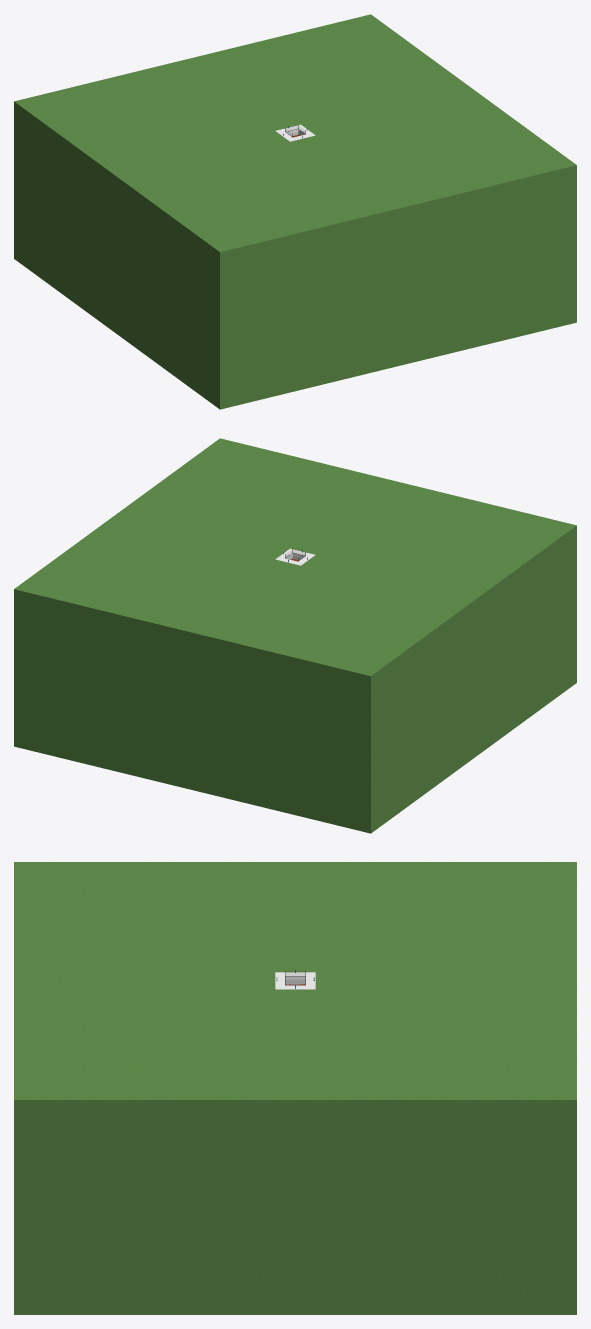
Rendered from lava.glb.
The picture shows the model from 3 angles, top to bottom: view 1: azimuth 30°, elevation 25°; view 2: azimuth 150°, elevation 25°; view 3: azimuth 270°, elevation 25°; orthographic projection. The views are drawn at different scales.
Parts seen in each view (by area): view 1: Grass; view 2: Grass; view 3: Grass, Floor.
Boxes of the visible parts, x1,y1,x2,y2 form: Grass: (14, 14, 576, 409); Grass: (14, 438, 576, 833); Grass: (14, 862, 576, 1314); Floor: (275, 972, 315, 989).
Size of what is drawn, in the model's own units: 500 by 216 by 500.
Materials: 4 (4 with a texture image).
